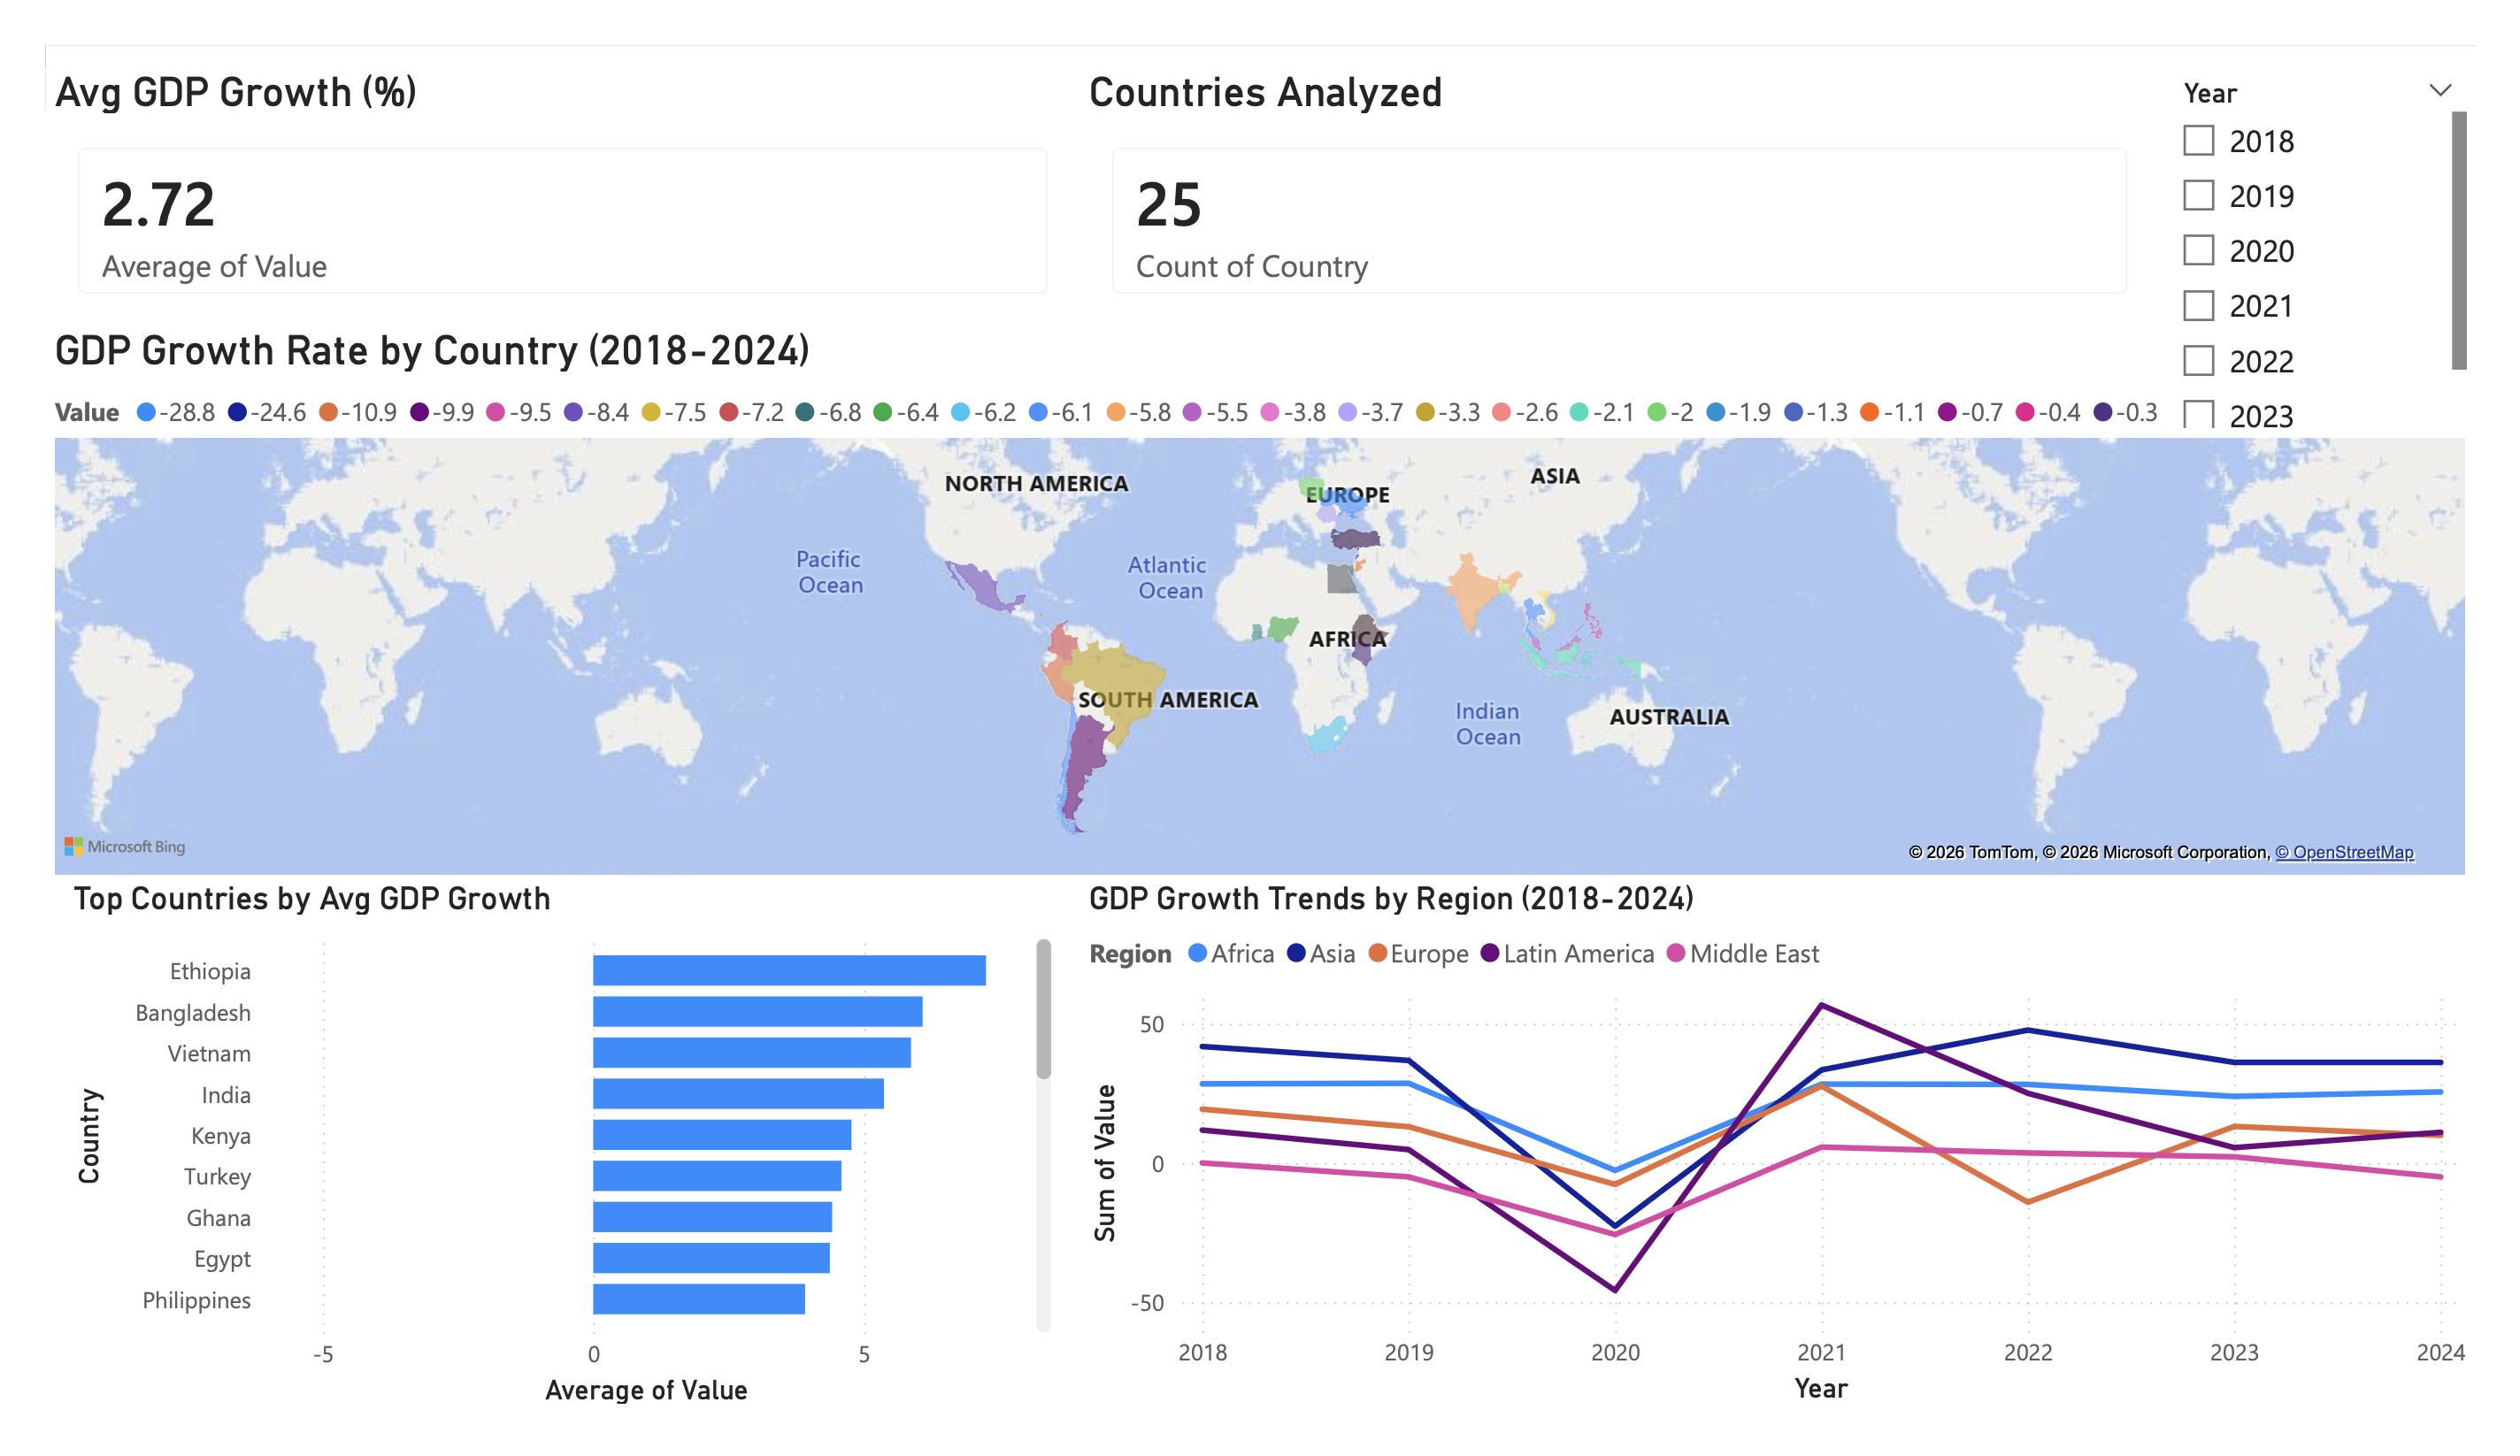

What the dashboard file says about the page in this screenshot:
{"tool":"powerbi","page":{"name":"Page 1","canvas":[1280,720],"ordinal":0},"visuals":[{"type":"filledMap","title":"GDP Growth Rate by Country (2018-2024)","fields":{"Category":["economic_data_master_20260127_231830.Country"],"Series":["economic_data_master_20260127_231830.Value"]},"box":[0,147.8,1280,294.1],"z":0},{"type":"slicer","fields":{"Values":["economic_data_master_20260127_231830.Year"]},"box":[1114.5,11.8,167,195.1],"z":1000},{"type":"clusteredBarChart","title":"Top Countries by Avg GDP Growth","fields":{"Category":["economic_data_master_20260127_231830.Country"],"Y":["Avg(economic_data_master_20260127_231830.Value)"]},"box":[10.3,439,524.7,282.3],"z":2000},{"type":"lineChart","title":"GDP Growth Trends by Region (2018-2024)","fields":{"Category":["economic_data_master_20260127_231830.Year"],"Y":["Sum(economic_data_master_20260127_231830.Value)"],"Series":["economic_data_master_20260127_231830.Region"]},"box":[545.4,439,734.6,282.3],"z":3000},{"type":"cardVisual","title":"Avg GDP Growth (%)","fields":{"Data":["Avg(economic_data_master_20260127_231830.Value)"]},"box":[0,11.8,545.4,136],"z":4000},{"type":"cardVisual","title":"Countries Analyzed","fields":{"Data":["Count(economic_data_master_20260127_231830.Country)"]},"box":[545.4,11.8,569.1,136],"z":5000}]}

Visuals, with their boxes in screenshot pixels (x1, y1, x2, y2), scaled from the page's 1280x720 canvas onto the 2520x1456 screenshot:
"GDP Growth Rate by Country (2018-2024)" filledMap: pyautogui.locateOnScreen(0, 299, 2519, 893)
slicer - economic_data_master_20260127_231830.Year: pyautogui.locateOnScreen(2194, 24, 2519, 418)
"Top Countries by Avg GDP Growth" clusteredBarChart: pyautogui.locateOnScreen(20, 888, 1053, 1455)
"GDP Growth Trends by Region (2018-2024)" lineChart: pyautogui.locateOnScreen(1074, 888, 2519, 1455)
"Avg GDP Growth (%)" cardVisual: pyautogui.locateOnScreen(0, 24, 1074, 299)
"Countries Analyzed" cardVisual: pyautogui.locateOnScreen(1074, 24, 2194, 299)
